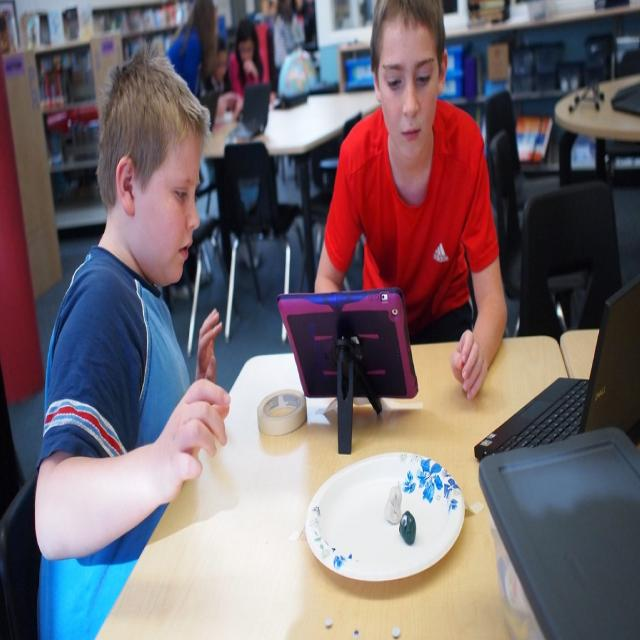non-organic waste: (308, 444, 467, 600)
